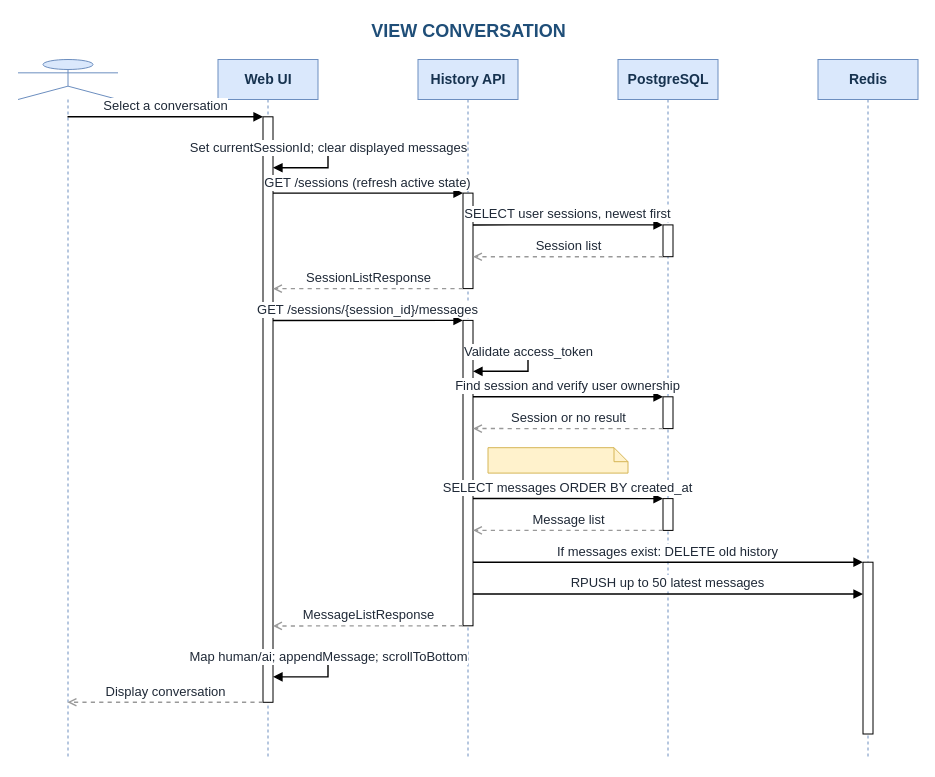
Image size: 935x777. Some labels were removed from this diagram. The shapes that lost their labels are listed below. From the top down, each one's box as (x1, y1, x2, y2) in pixels, then its label:
(17, 58, 118, 760): User
(487, 447, 628, 473): Not found or not owned by the user: return HTTP 404
